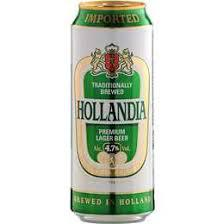beer: (69, 1, 156, 223)
